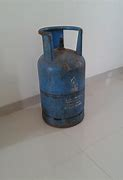blue_gas: (38, 26, 86, 128)
